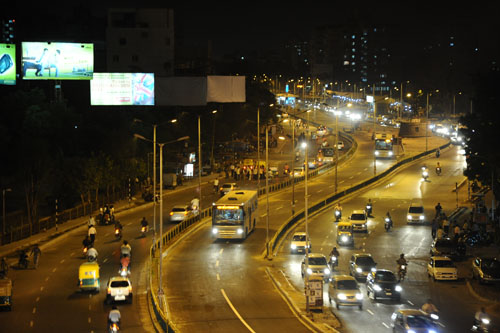bus: (202, 179, 263, 246)
car: (357, 264, 409, 306), (323, 270, 368, 316), (422, 253, 462, 286), (346, 251, 385, 284), (301, 250, 332, 283), (286, 225, 313, 258), (345, 208, 373, 237), (404, 200, 427, 228)
rickshaw: (332, 221, 357, 248)
